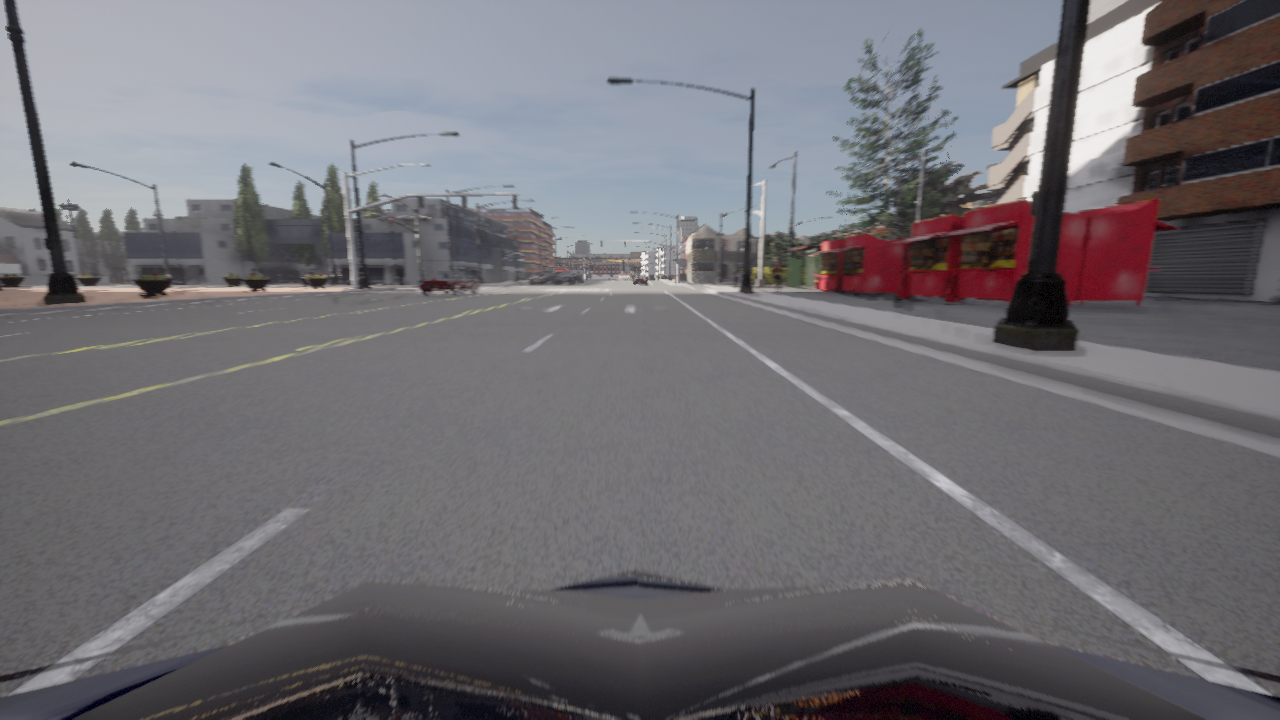cyclist: (0, 569, 1279, 719), (417, 272, 480, 296), (554, 271, 574, 284), (538, 271, 557, 284), (529, 272, 548, 284), (573, 271, 582, 283), (634, 276, 645, 284), (557, 269, 570, 272), (549, 281, 550, 283)
pedestrian: (773, 259, 782, 293), (733, 266, 738, 286)
